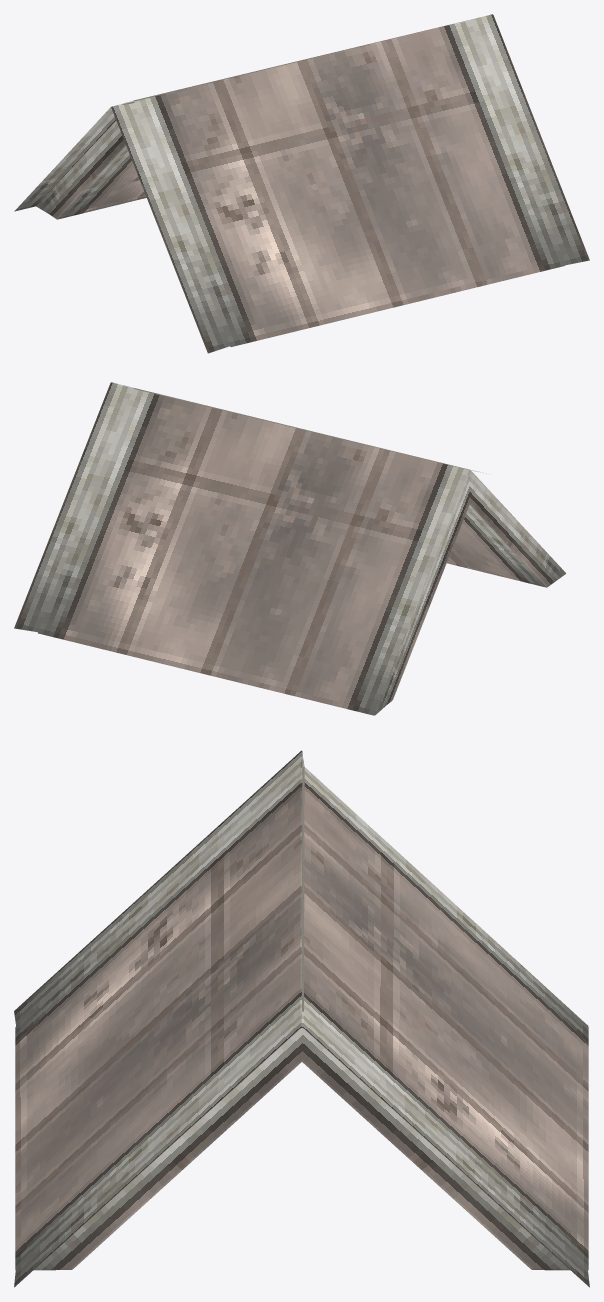
The model's file is roof-metal-type-a.glb.
3 views of the same model, one above another, from view 1: azimuth 30°, elevation 25°; view 2: azimuth 150°, elevation 25°; view 3: azimuth 270°, elevation 25° (orthographic). The views are drawn at different scales.
Parts seen in each view (by area): view 1: roof-metal-type-a; view 2: roof-metal-type-a; view 3: roof-metal-type-a.
Part boxes in pixels (box(x1,y1,x2,y2)): roof-metal-type-a: box(14, 14, 589, 353); roof-metal-type-a: box(14, 382, 565, 715); roof-metal-type-a: box(14, 750, 589, 1287).
Size of the model in its own units: 1.14 by 0.5 by 1.
2 materials, 2 textured.
